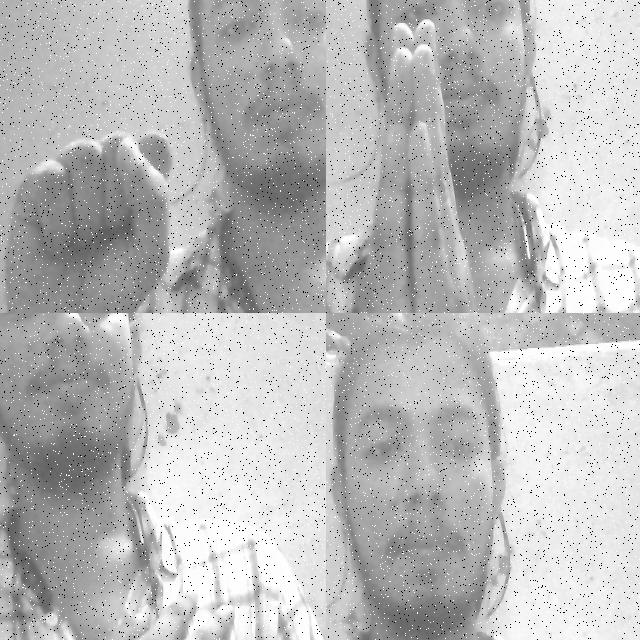I love u: (18, 578, 267, 640)
No: (0, 117, 187, 313)
Thank You: (349, 11, 518, 313)
